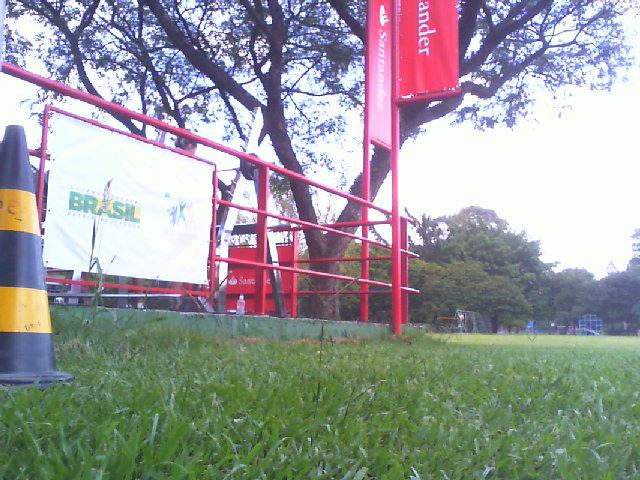0 cone: (0, 124, 80, 390)
